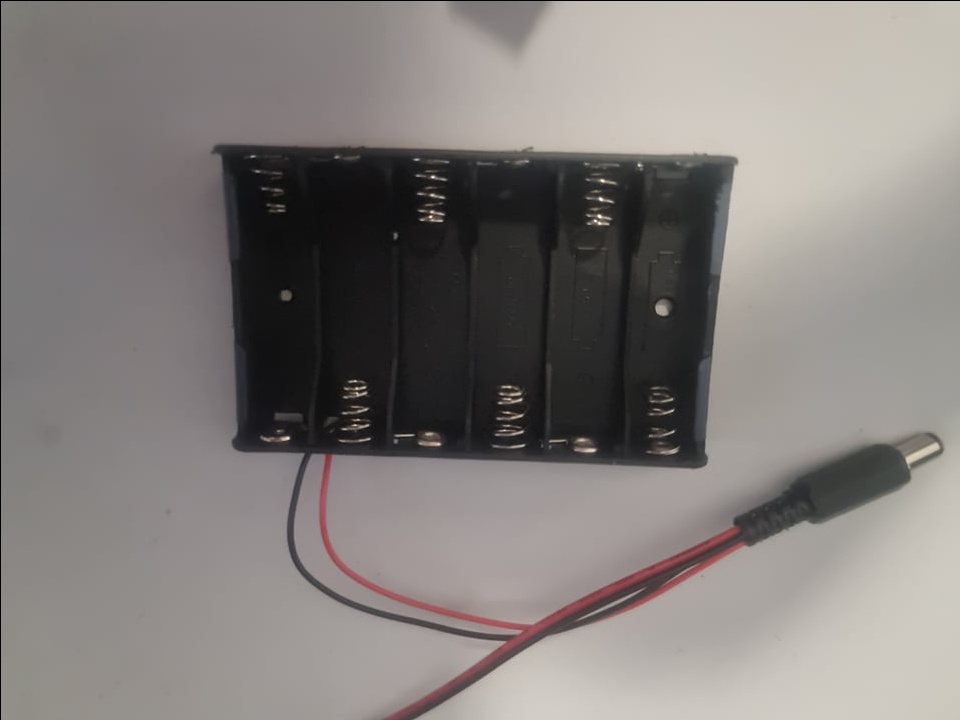BATTERY BOX: (214, 141, 738, 469)
